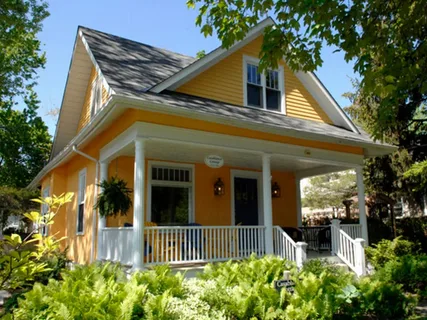private_hause: (54, 24, 376, 261)
